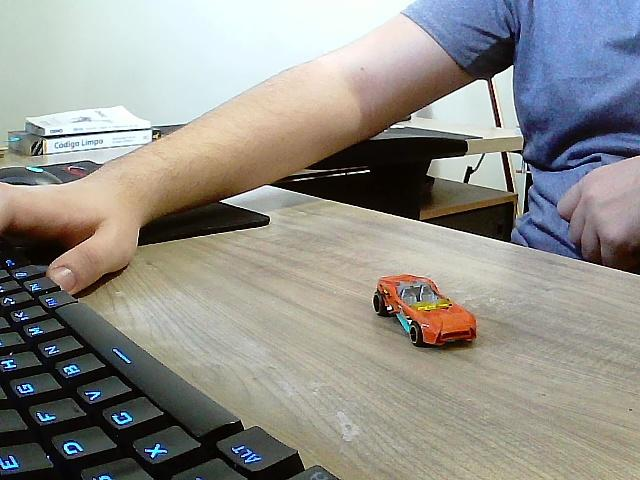Carro: (372, 275, 477, 348)
